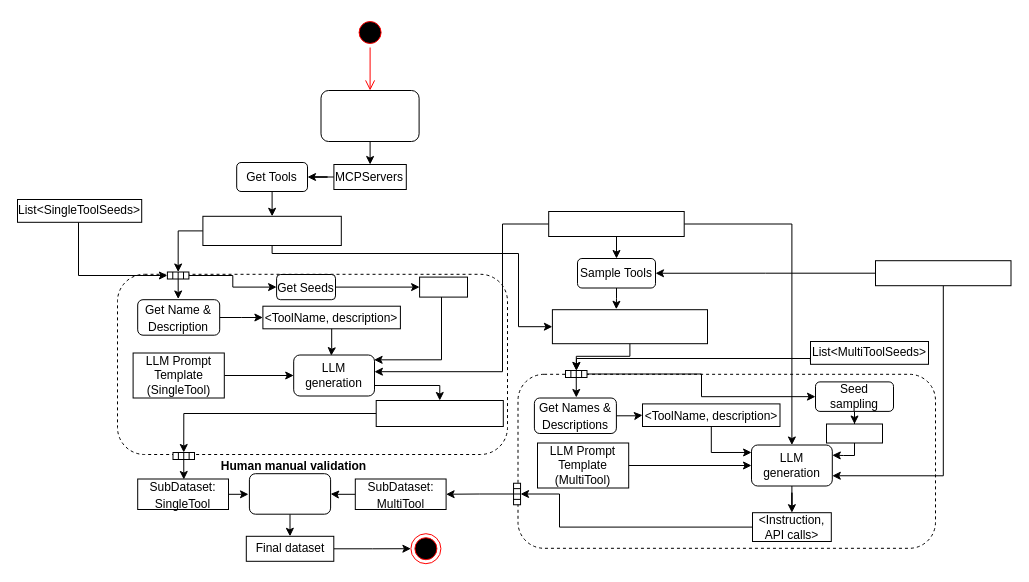
Image size: 1029x582. Some labels were removed from this diagram. The centre of each missing label's shape, as x and y in pixels:
"3 seed" belongs at (443,286).
"3 seeds" belongs at (854,433).
"<Instruction, API call>" belongs at (439,413).
"Company tools TBT" belongs at (616,223).
"Company workflows TBT" belongs at (942,273).
"Ground truth validation" belongs at (289,493).
"List<Tools selected ( e.g. 2)>" belongs at (629,326).
"MCP Tools: List<MCPTo ol>" belongs at (271,230).
"Query megamodel repository" belongs at (369,116).
